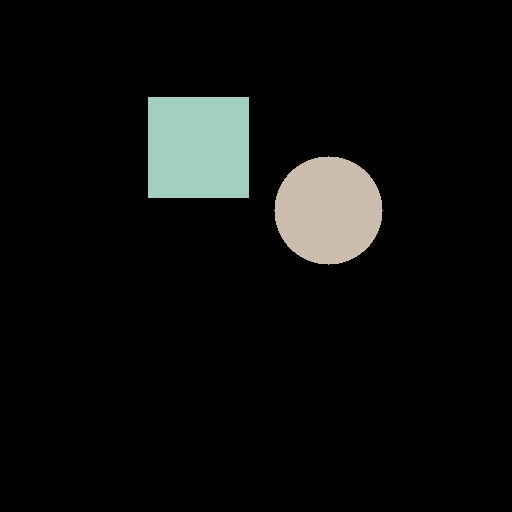circle: (274, 156, 382, 264)
square: (148, 97, 248, 197)
